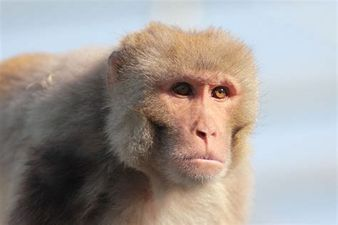monkey: (23, 9, 299, 219)
